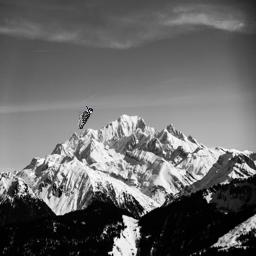Woodpecker: (74, 105, 93, 129)
